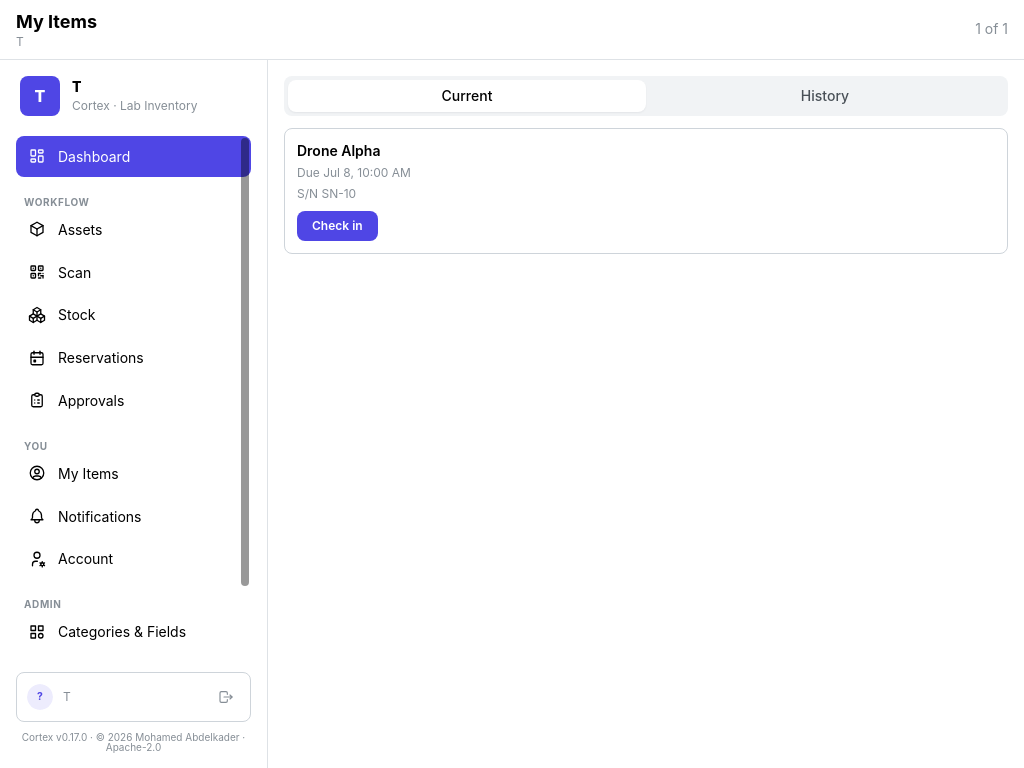
MyItemsScreen › switching to the History tab shows returned items via HistoryRow, with no check-in button
Expected: the element with test id "checkout-row-1" is shown, [284,128,1008,254]
Click the text "History". click: [825, 96]
box: [801,87,849,104]
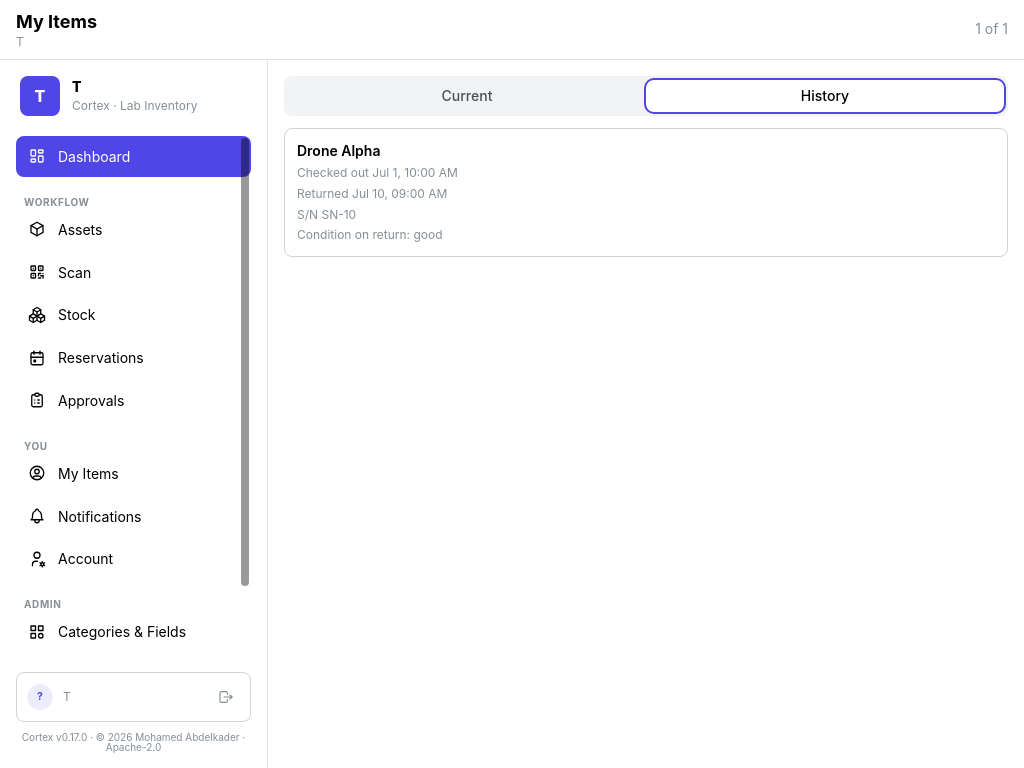
Expected: the element with test id "history-row-2" is shown, [284,128,1008,257]
